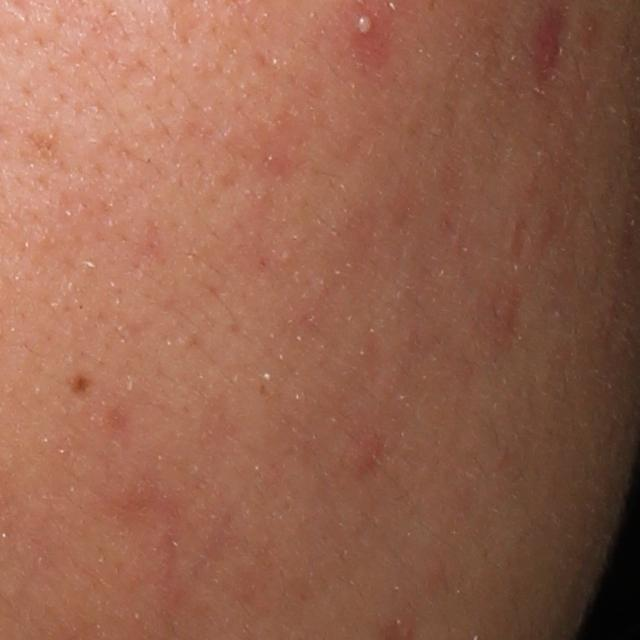nevus: (63, 370, 95, 398)
papule: (353, 437, 389, 478)
pustule: (350, 4, 381, 44)
